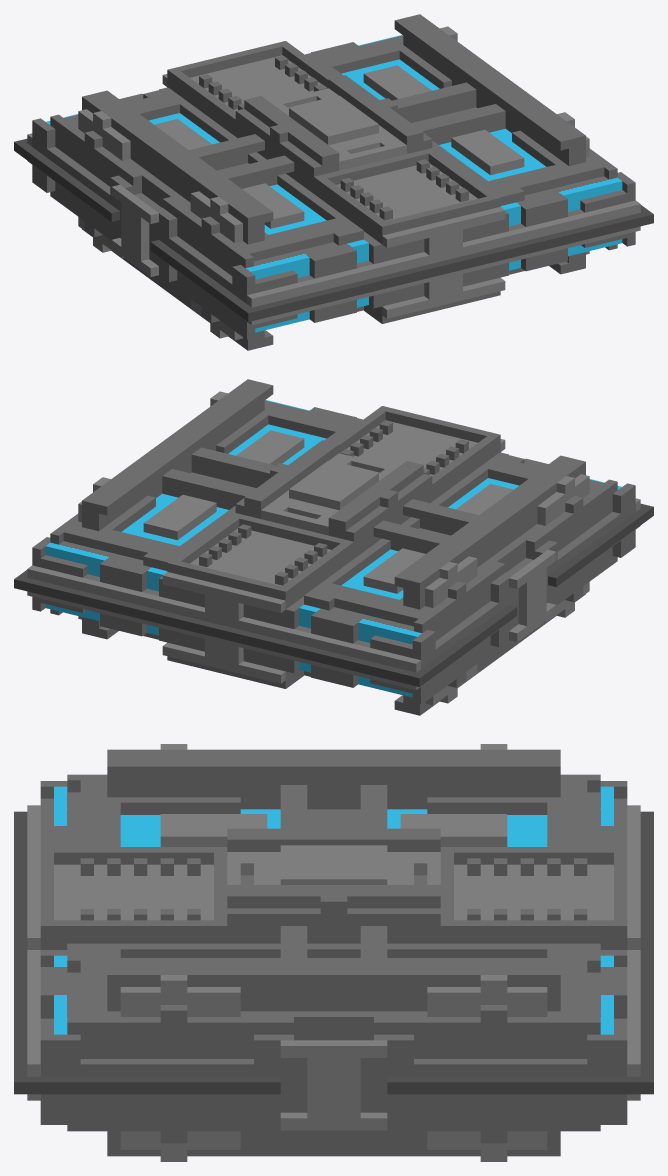
Rendered from alien_saucer3c.fbx.
3 renders of one model, top to bottom at view 1: azimuth 30°, elevation 25°; view 2: azimuth 150°, elevation 25°; view 3: azimuth 270°, elevation 25°, orthographic. The views are drawn at different scales.
Visible parts, largest first — view 1: alien_saucer3c; view 2: alien_saucer3c; view 3: alien_saucer3c.
Boxes of the visible parts, x1,y1,x2,y2 form: alien_saucer3c: (14, 14, 653, 350); alien_saucer3c: (14, 379, 653, 715); alien_saucer3c: (14, 744, 653, 1161).
Size of the model in its own units: 4.8 by 4.8 by 1.5.
Materials: 1 (1 with a texture image).
